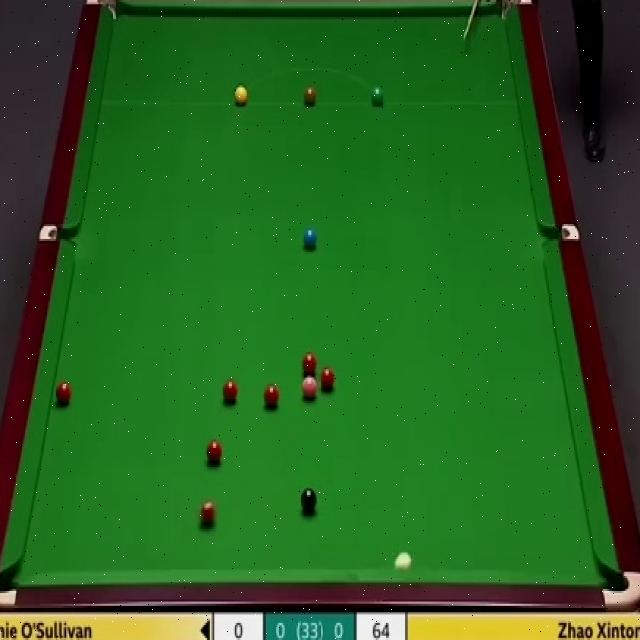black-ball: (301, 486, 318, 515)
blue-ball: (304, 229, 318, 252)
brown-ball: (304, 88, 317, 107)
green-ball: (372, 86, 384, 106)
pink-ball: (300, 375, 318, 402)
red-ball: (54, 380, 74, 407), (199, 498, 218, 525), (301, 349, 319, 375), (318, 364, 334, 390), (222, 379, 238, 405), (205, 440, 222, 464), (262, 386, 279, 408)
white-ball: (396, 551, 413, 576)
yellow-ball: (234, 84, 249, 107)
